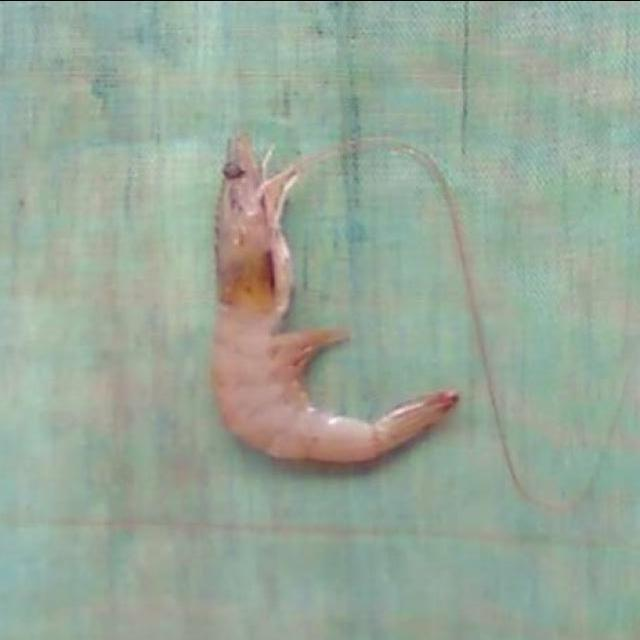shrimp: (213, 135, 458, 463)
